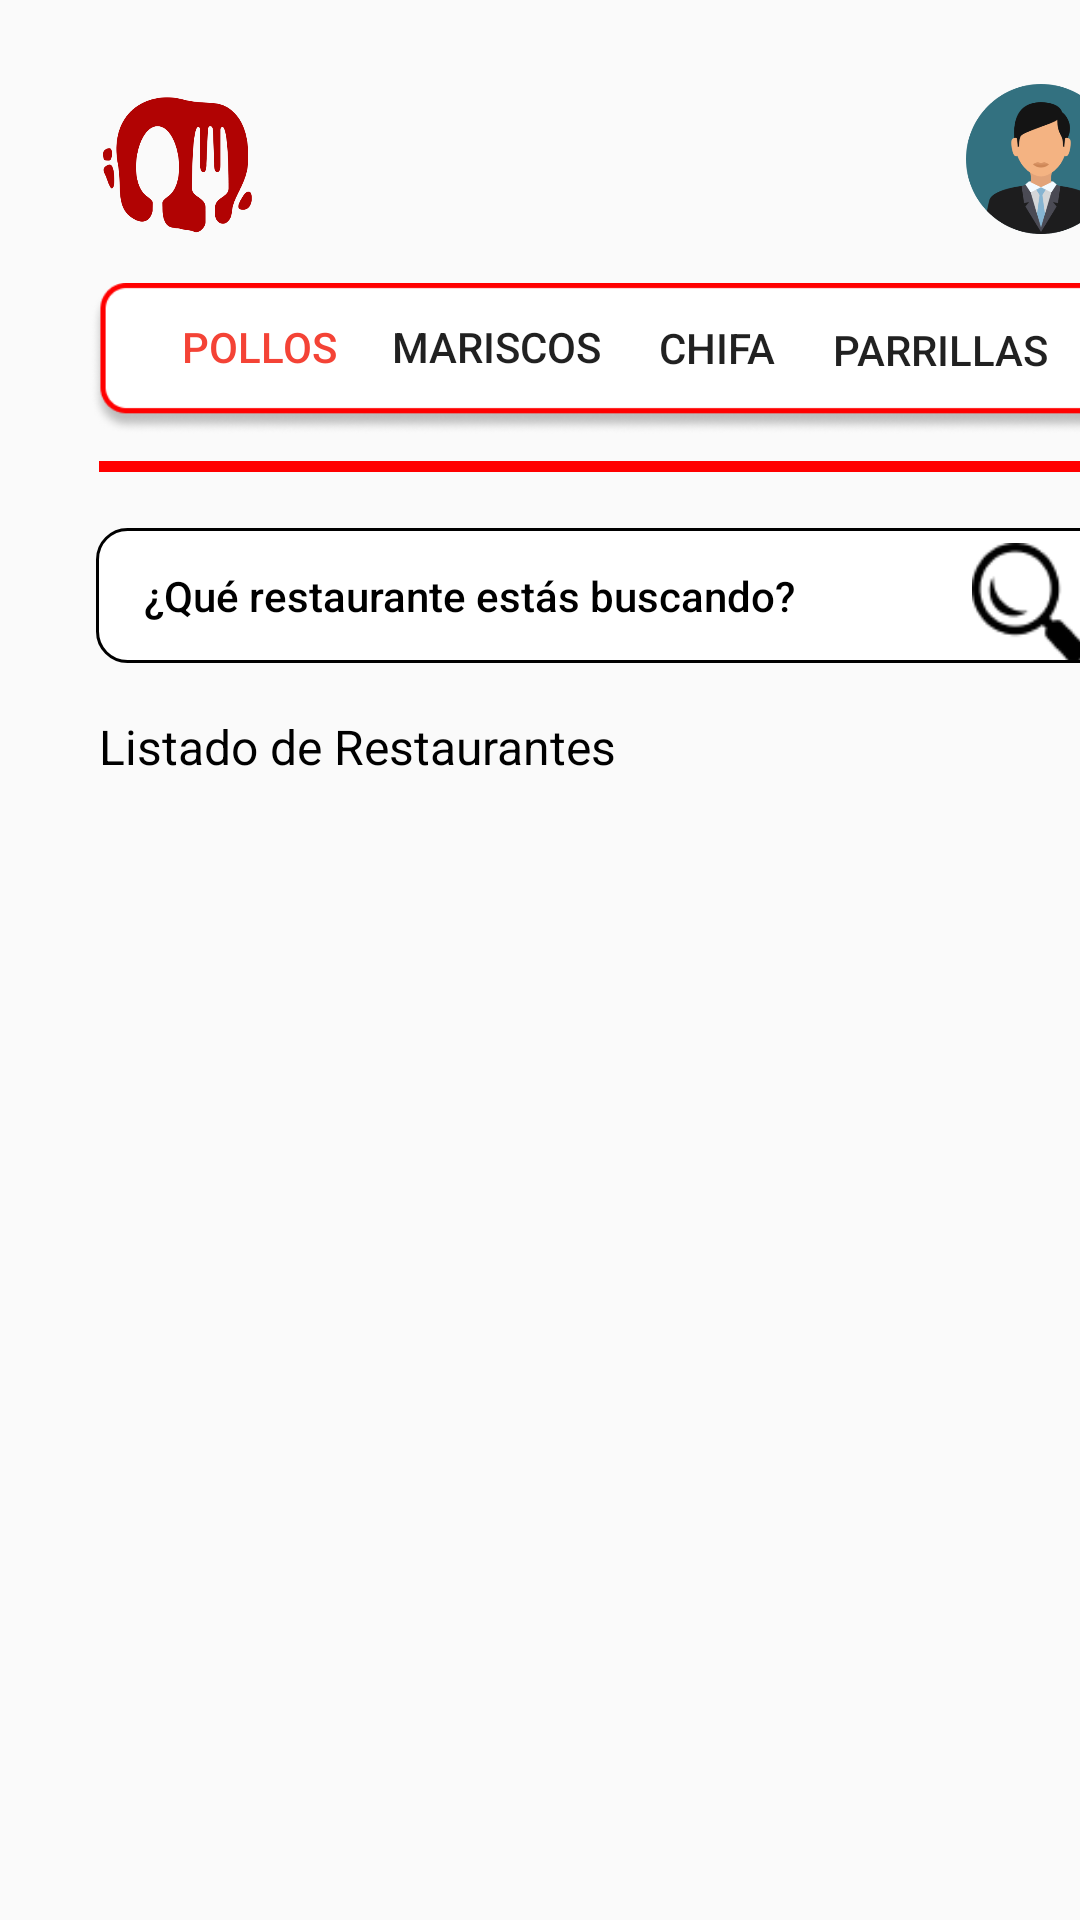

Named icons in this screenshot (1080px x 1920px) and their centers, point (x, y):
imglupa: point (1026, 603)
